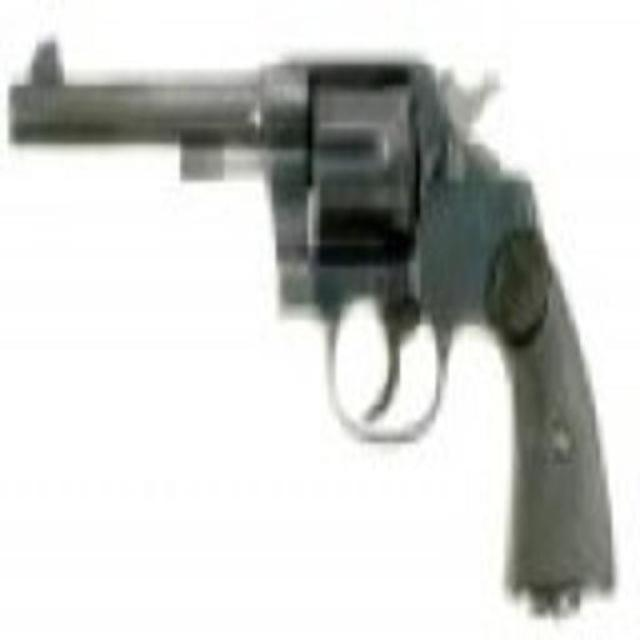pistol: (7, 26, 620, 586)
